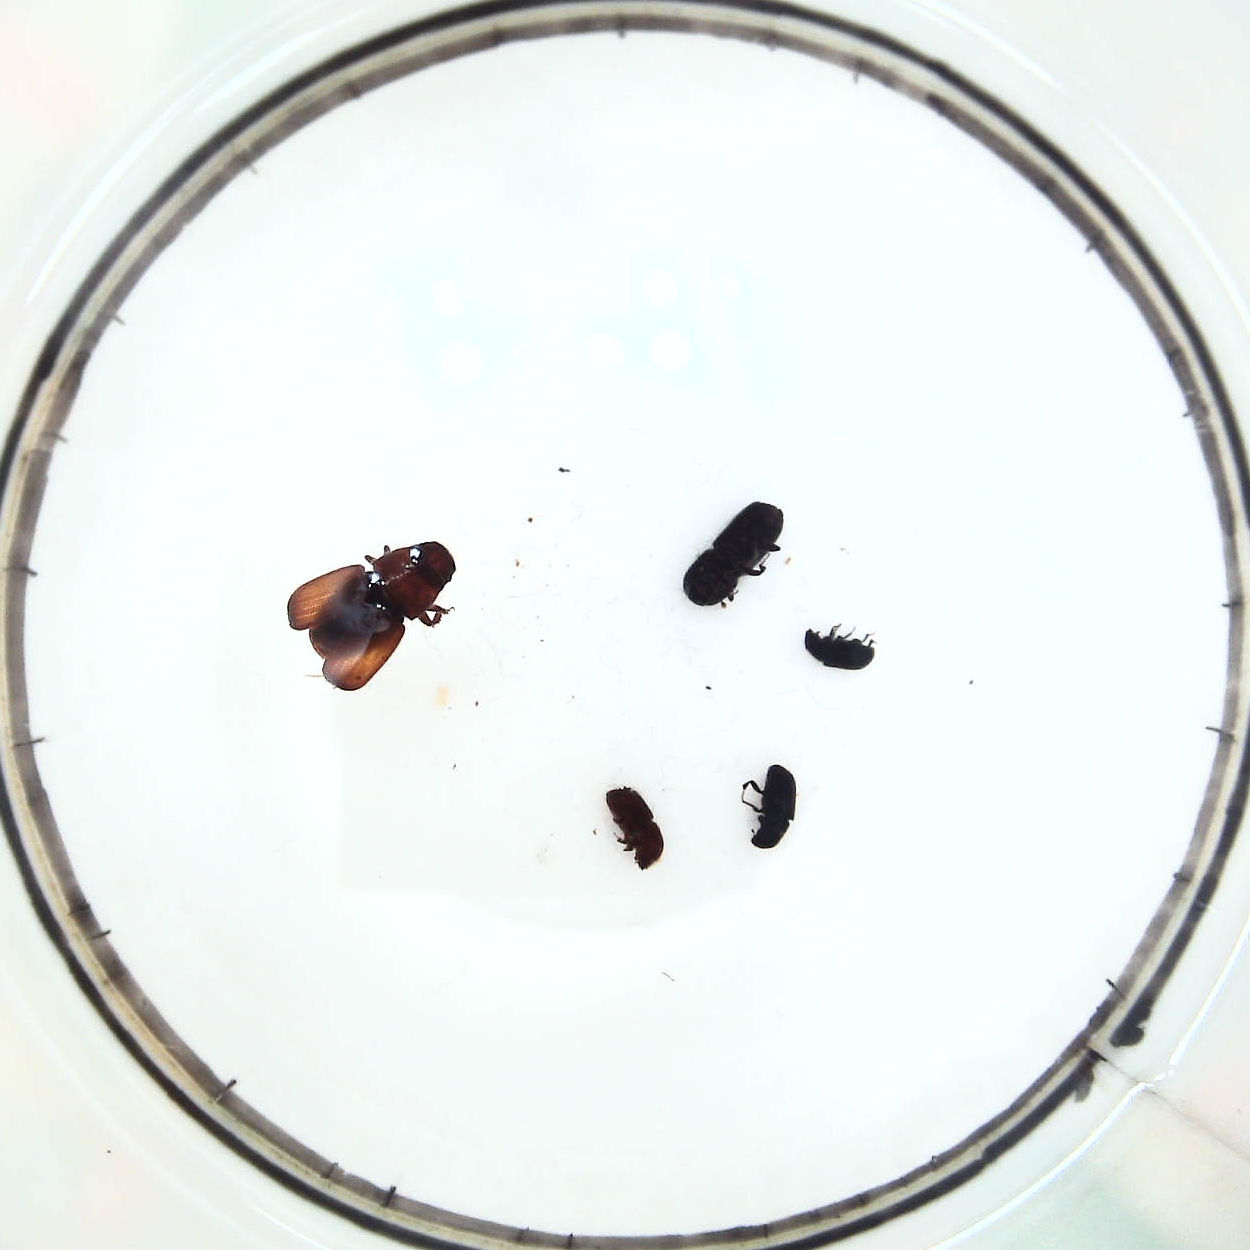Boerner: (685, 501, 781, 611)
Leconte: (288, 541, 459, 690)
Linnaeus: (602, 784, 666, 872)
armandi: (747, 764, 799, 851)
coleoptera: (802, 624, 872, 668)
